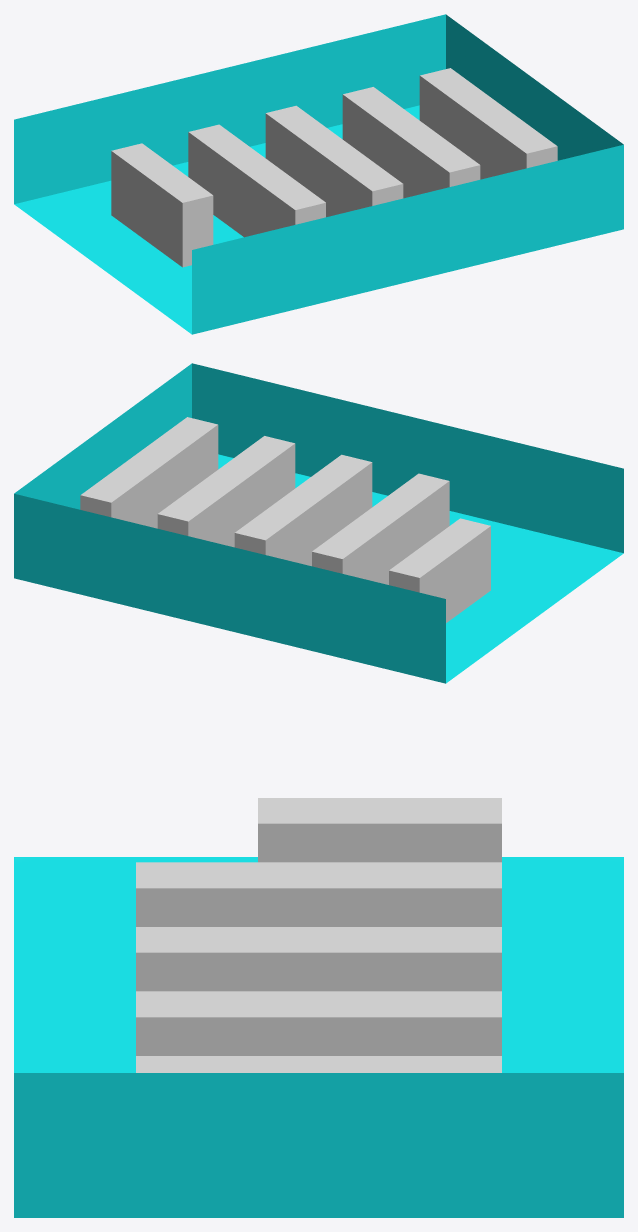
File: world.dae
The picture shows the model from 3 angles, top to bottom: view 1: azimuth 30°, elevation 25°; view 2: azimuth 150°, elevation 25°; view 3: azimuth 270°, elevation 25°; orthographic projection. The views are drawn at different scales.
Parts seen in each view (by area): view 1: Plane, Cube.001, Cube.005, Cube.003, Cube.004, Cube.002; view 2: Plane, Cube.003, Cube.004, Cube.002, Cube.001, Cube.005; view 3: Plane, Cube.004, Cube.002, Cube.001, Cube.005, Cube.003.
Boxes of the visible parts, x1=… form: Plane: x1=14, y1=14, x2=623, y2=334; Cube.001: x1=188, y1=124, x2=325, y2=237; Cube.005: x1=111, y1=143, x2=213, y2=267; Cube.003: x1=419, y1=68, x2=557, y2=179; Cube.004: x1=342, y1=87, x2=480, y2=198; Cube.002: x1=265, y1=105, x2=403, y2=217; Plane: x1=14, y1=363, x2=623, y2=683; Cube.003: x1=80, y1=417, x2=218, y2=528; Cube.004: x1=157, y1=436, x2=295, y2=547; Cube.002: x1=234, y1=454, x2=372, y2=566; Cube.001: x1=312, y1=473, x2=449, y2=584; Cube.005: x1=389, y1=518, x2=490, y2=622; Plane: x1=14, y1=857, x2=623, y2=1217; Cube.004: x1=136, y1=991, x2=501, y2=1055; Cube.002: x1=136, y1=927, x2=501, y2=991; Cube.001: x1=136, y1=862, x2=501, y2=926; Cube.005: x1=258, y1=798, x2=501, y2=862; Cube.003: x1=136, y1=1056, x2=501, y2=1072.
Bounding box in the file's own units: 28 × 20 × 5.25.
1 material, 1 textured.
